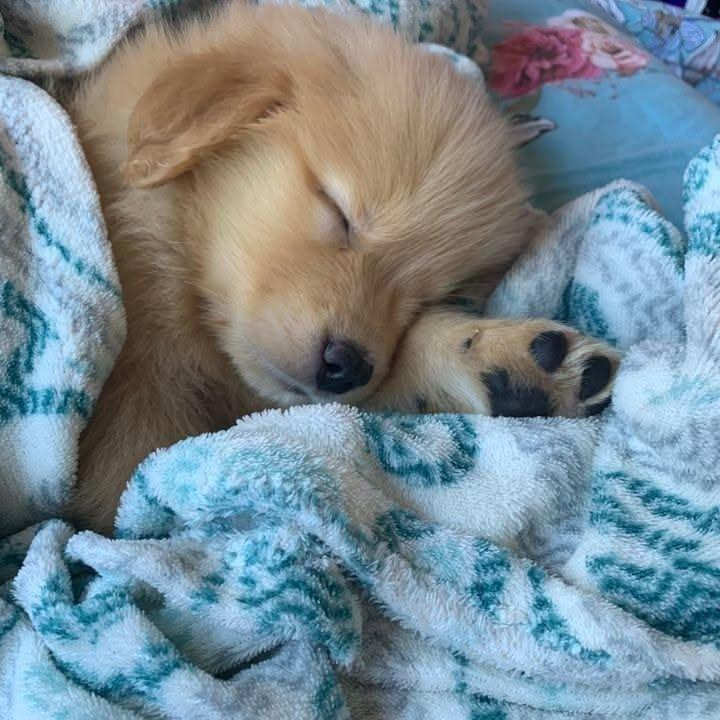puppy-dog: (66, 6, 619, 535)
